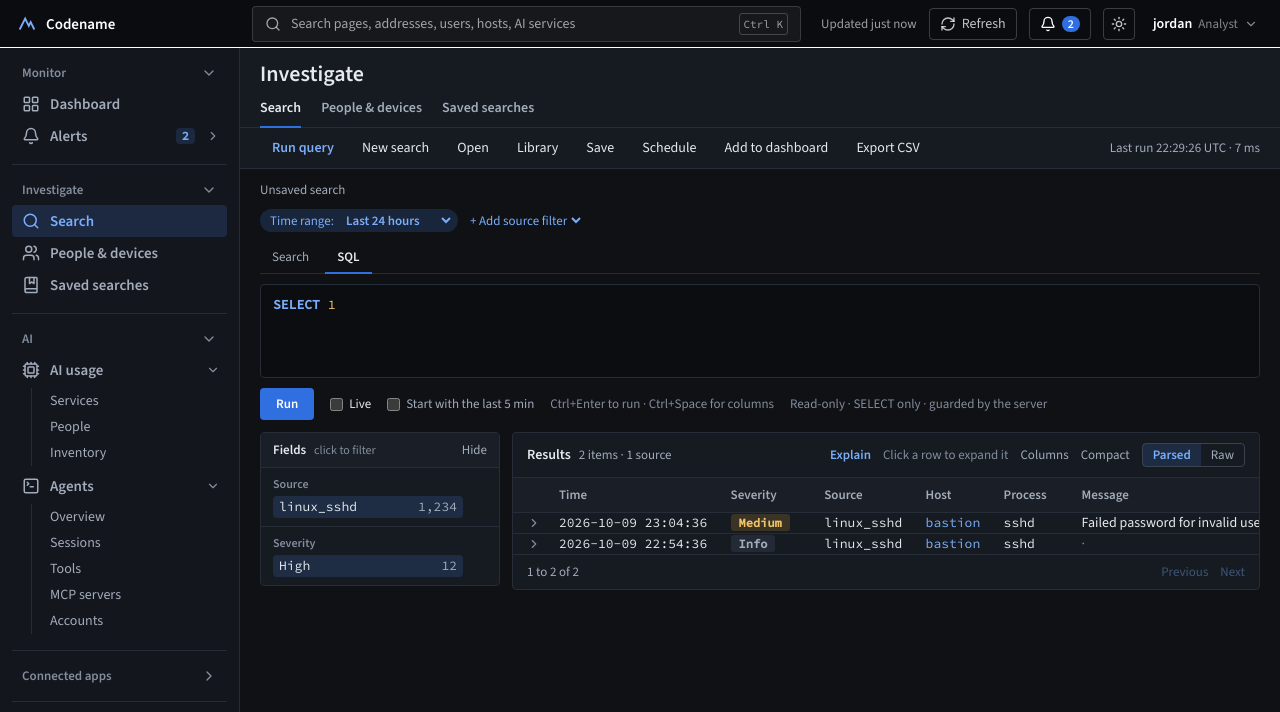
Test: Recent searches (D90) › clears the list
The image size is (1280, 712).
Check: the heading "Investigate" is shown, box [260,59,364,88]
Click the button "Open" at point(473, 148), box [445,132,501,164]
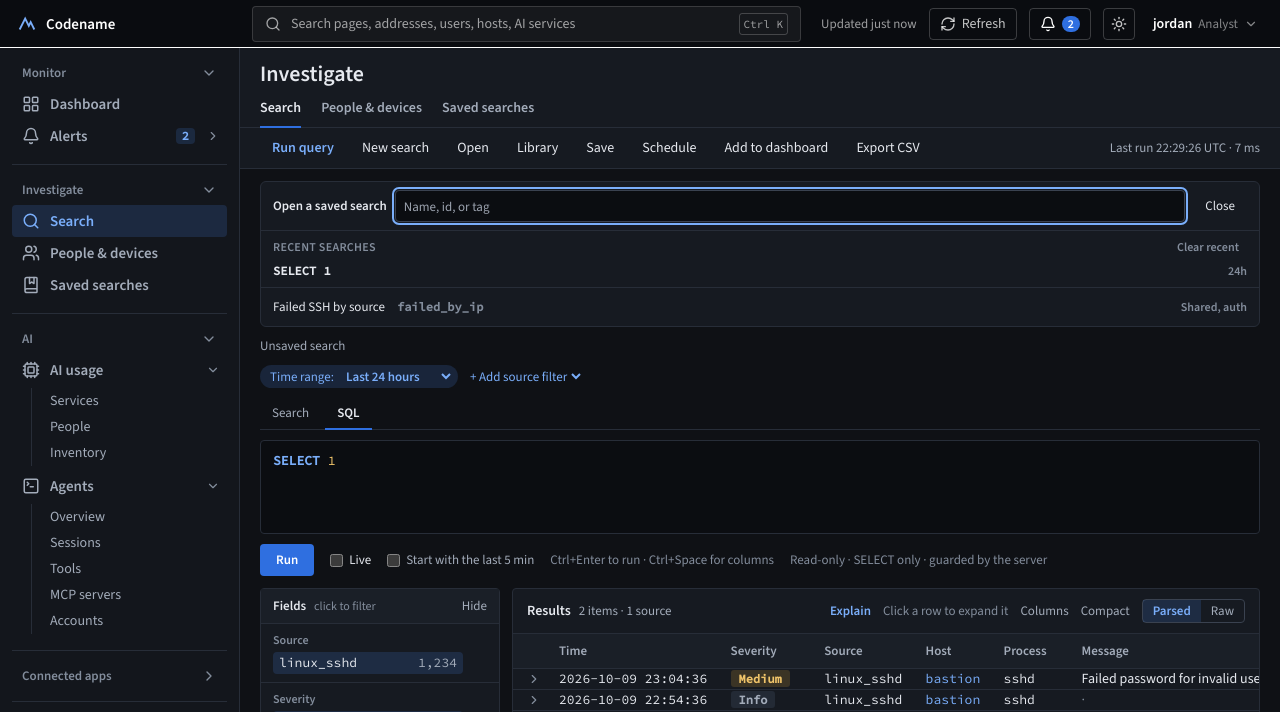
Click the button "Clear recent" at point(1208, 247), box [1169,239,1247,255]
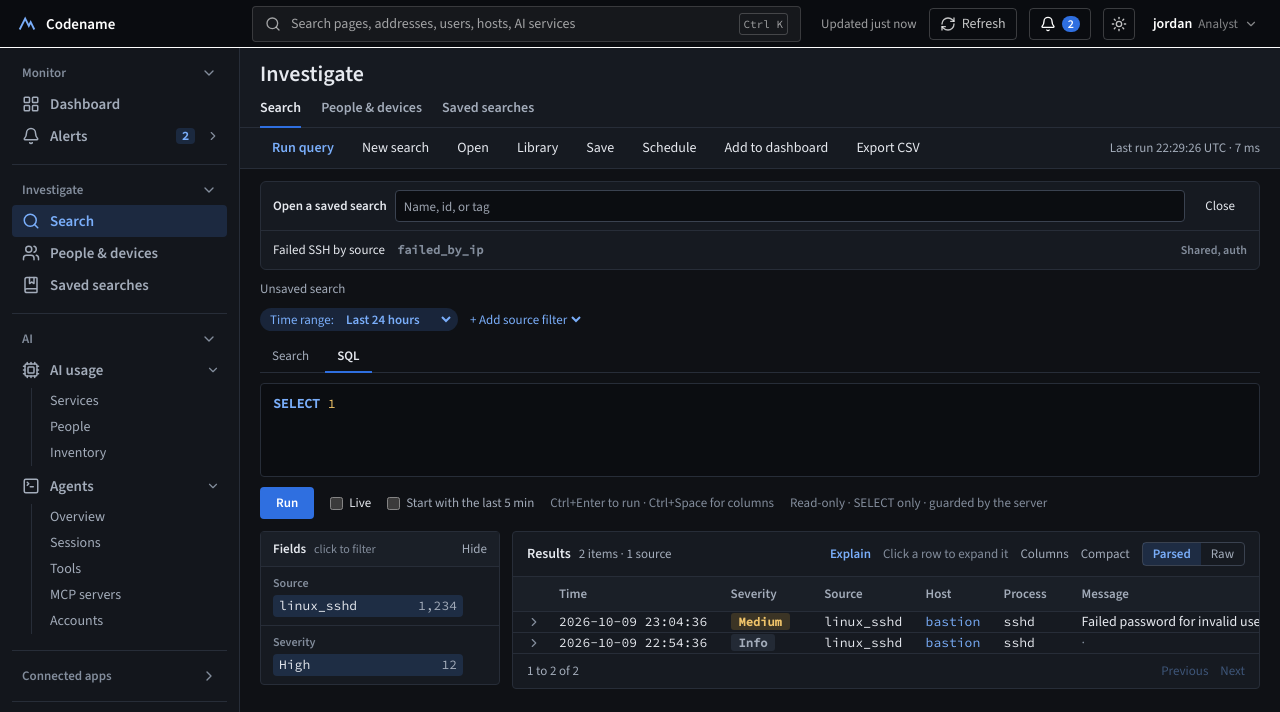
Check: the heading "Recent searches" is gone
